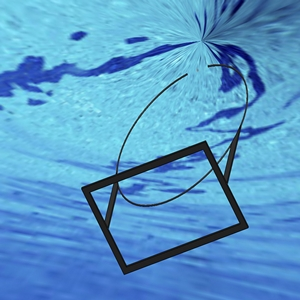circle: (79, 61, 252, 275)
